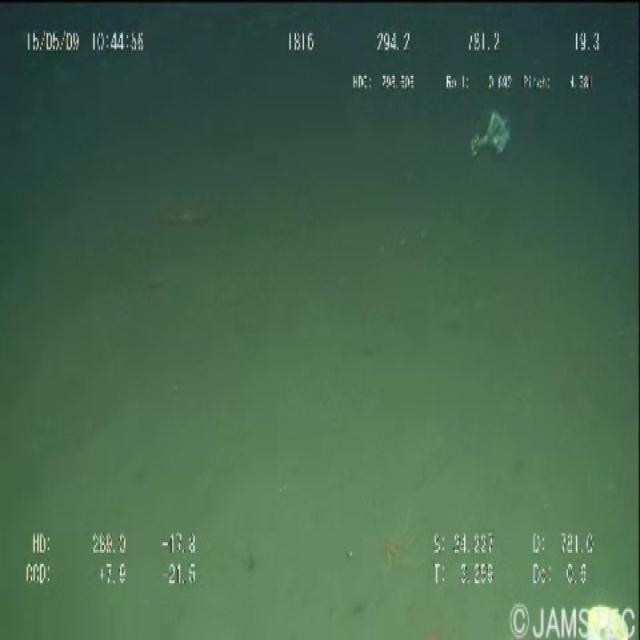Litter: (464, 112, 528, 192)
